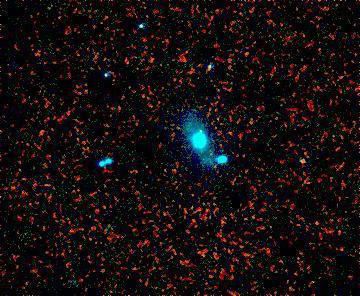star: (186, 117, 216, 147)
